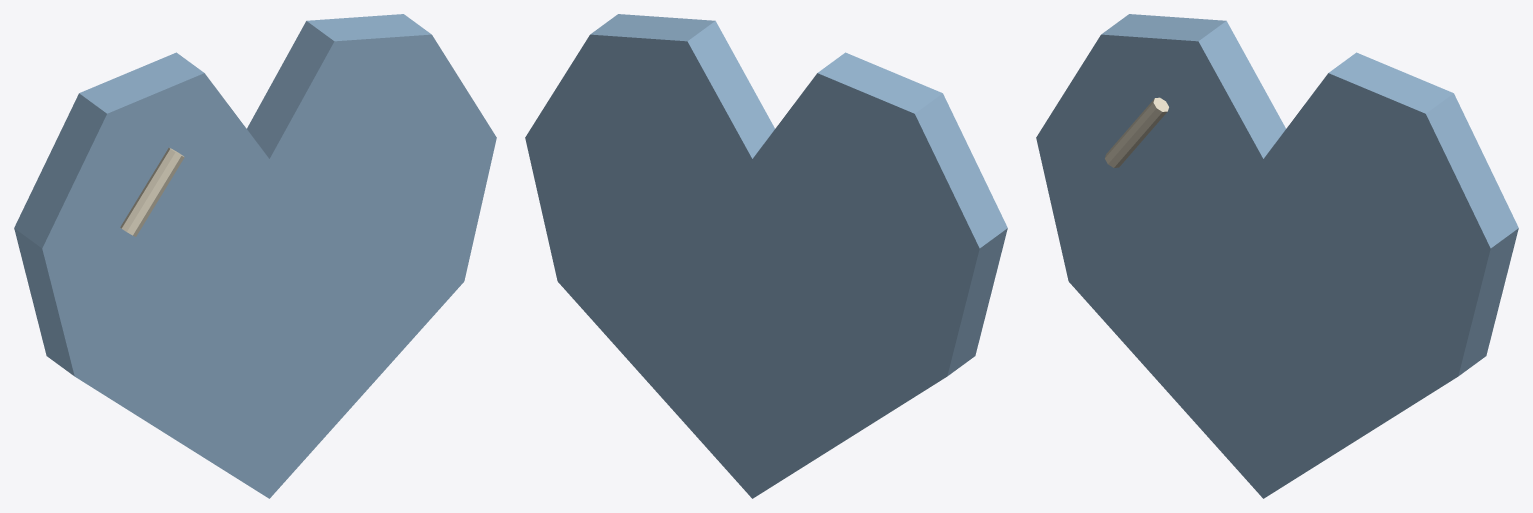
The model's file is friend-in-need.glb.
3 renders of one model, left to right at view 1: azimuth 30°, elevation 25°; view 2: azimuth 150°, elevation 25°; view 3: azimuth 330°, elevation 25°, orthographic.
Parts seen in each view (by area): view 1: Friendship heart.001, Heart glint.001; view 2: Friendship heart.001; view 3: Friendship heart.001, Heart glint.001.
Boxes of the visible parts, x1=… form: Friendship heart.001: x1=14, y1=14, x2=496, y2=498; Heart glint.001: x1=120, y1=147, x2=184, y2=236; Friendship heart.001: x1=525, y1=14, x2=1007, y2=498; Friendship heart.001: x1=1036, y1=14, x2=1518, y2=498; Heart glint.001: x1=1105, y1=97, x2=1168, y2=167.
Bounding box in the file's own units: 0.028 × 0.026 × 0.004.
